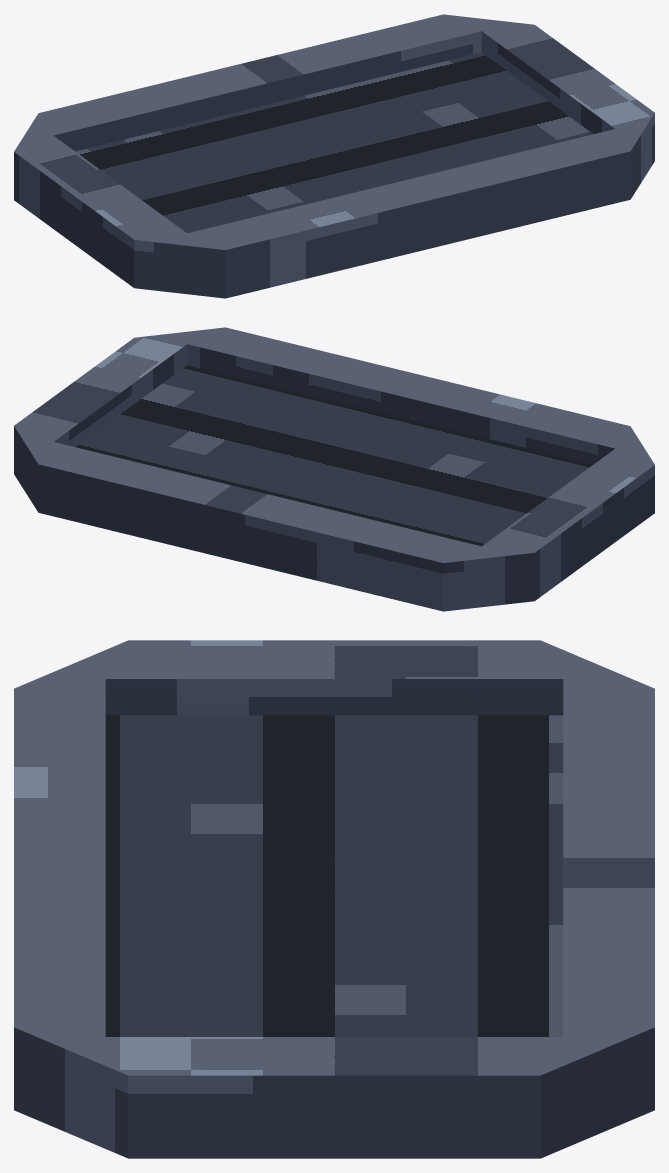
Rendered from tech.vent__floor.glb.
The picture shows the model from 3 angles, top to bottom: view 1: azimuth 30°, elevation 25°; view 2: azimuth 150°, elevation 25°; view 3: azimuth 270°, elevation 25°; orthographic projection. The views are drawn at different scales.
Visible parts, largest first — view 1: kit_frame, kit_grille; view 2: kit_frame, kit_grille; view 3: kit_frame, kit_grille.
Part boxes in pixels (bbox=[...]): kit_frame: bbox=[14, 14, 654, 298]; kit_grille: bbox=[75, 52, 593, 233]; kit_frame: bbox=[14, 327, 654, 611]; kit_grille: bbox=[75, 365, 593, 546]; kit_frame: bbox=[14, 640, 654, 1158]; kit_grille: bbox=[105, 715, 563, 1036].
Bounding box in the file's own units: 0.9 × 0.08 × 0.56.
3 materials, 3 textured.
